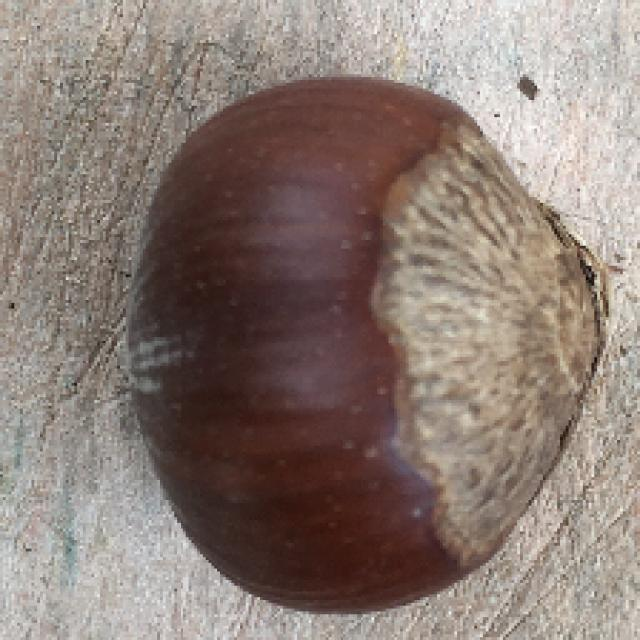damagedHazelnut: (134, 66, 606, 616)
